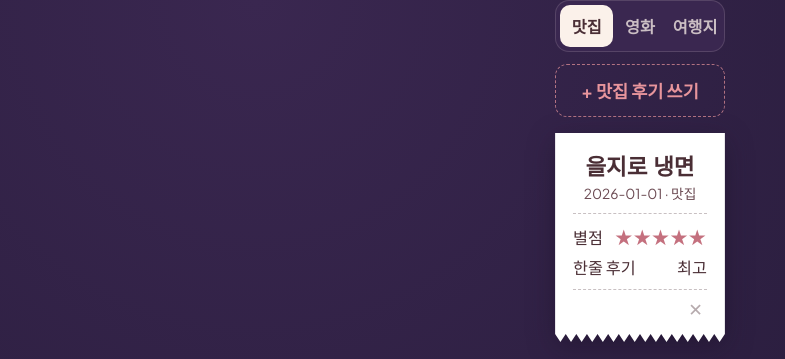
Test: Archive › switches to movie items when that tab is clicked
This screenshot has width=785, height=359.
Click the button "영화" at (640, 26), box 613,5 -> 667,47
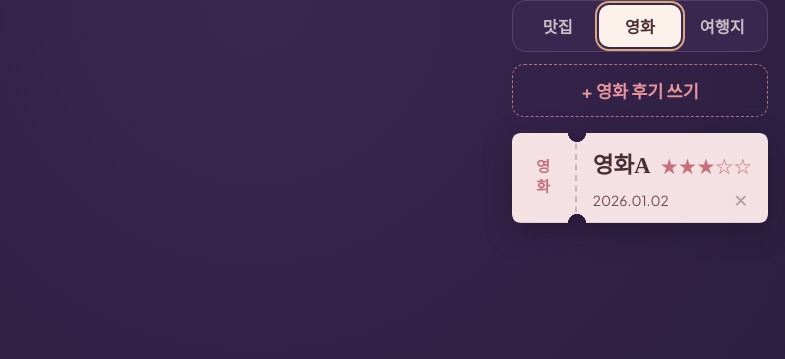
Result: the text "영화A" is shown at 593,147 -> 650,179
